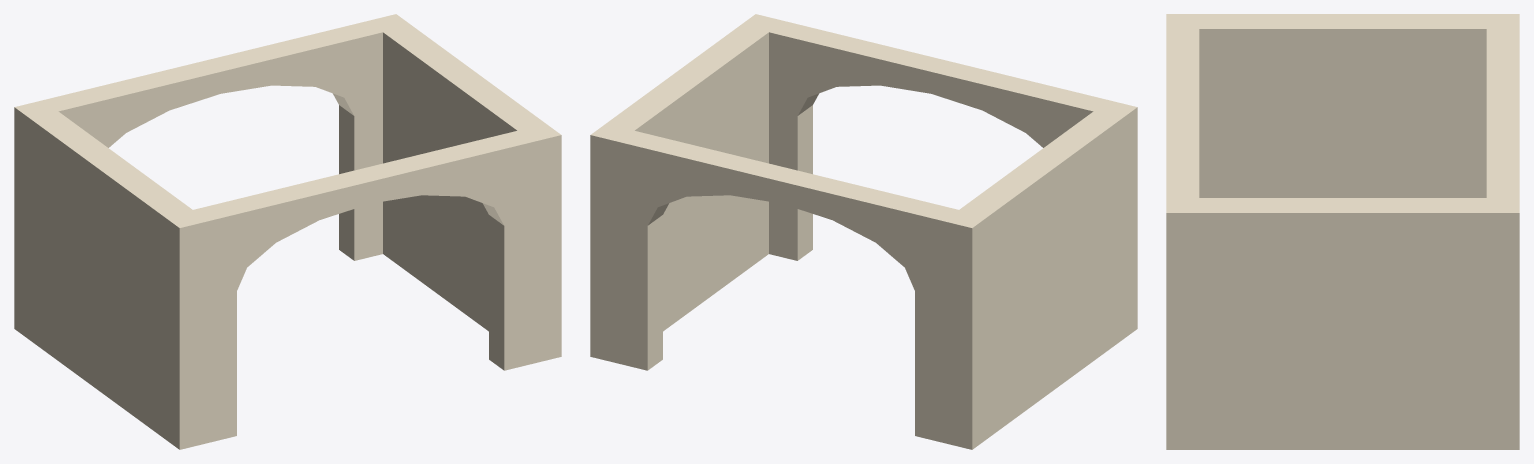
Rendered from town_terrace_base.glb.
3 views of the same model, side by side, from view 1: azimuth 30°, elevation 25°; view 2: azimuth 150°, elevation 25°; view 3: azimuth 270°, elevation 25° (orthographic). The views are drawn at different scales.
Parts seen in each view (by area): view 1: beach_town_terrace_base; view 2: beach_town_terrace_base; view 3: beach_town_terrace_base.
Boxes of the visible parts, x1,y1,x2,y2 form: beach_town_terrace_base: (14,14,561,449); beach_town_terrace_base: (590,14,1137,449); beach_town_terrace_base: (1166,14,1519,449).
Size of the model in its own units: 4 by 2.22 by 3.
Materials: 1 (1 with a texture image).
